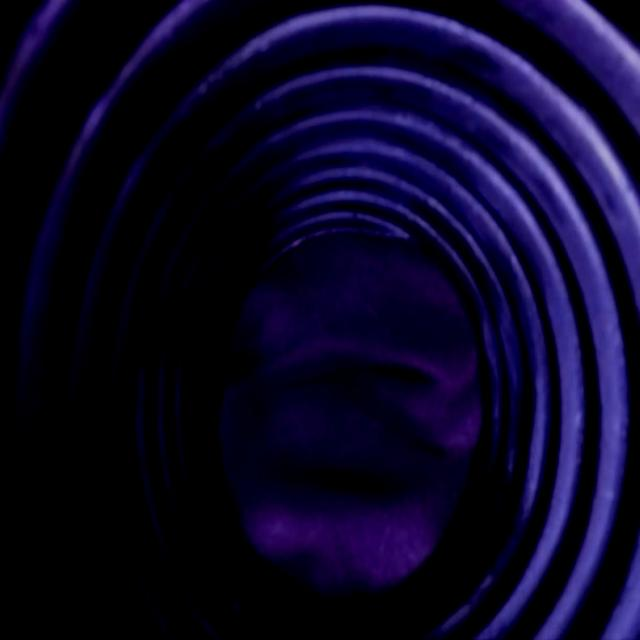block: (215, 226, 483, 599)
